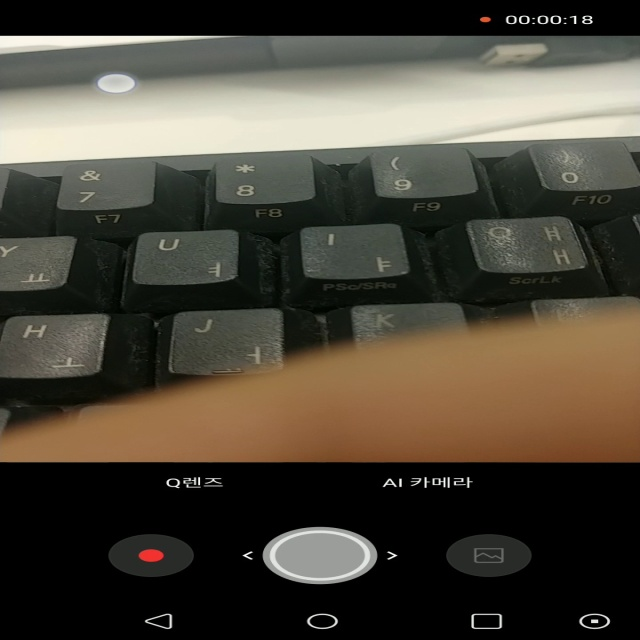Cursor: (95, 74, 139, 96)
